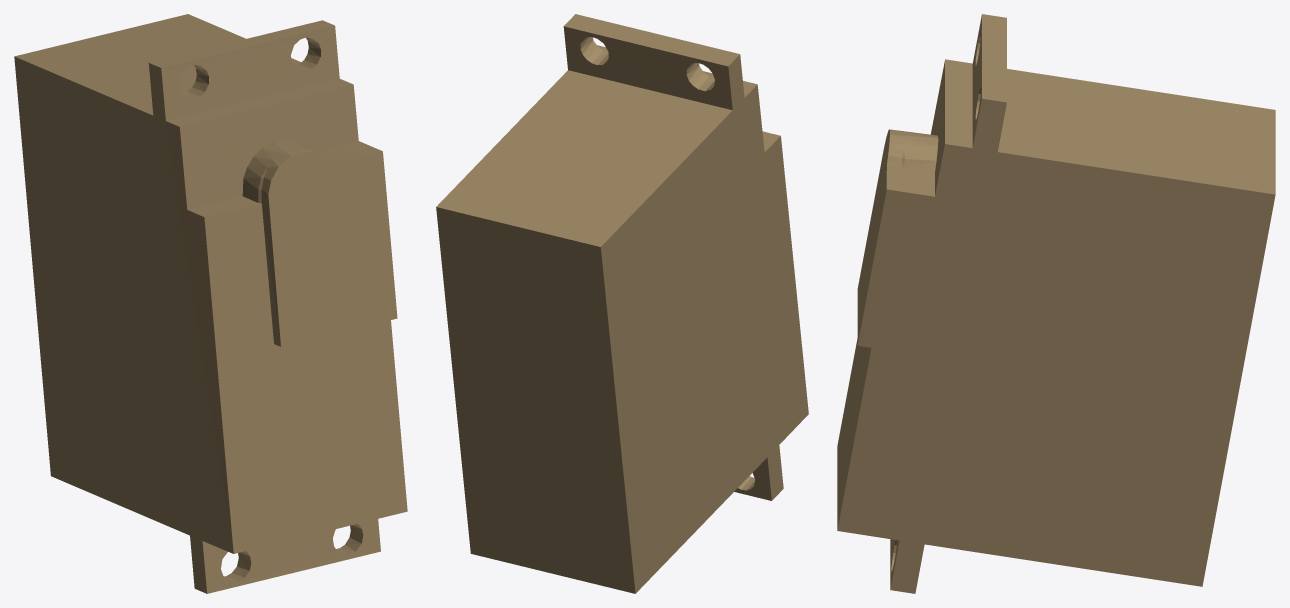
The model's file is right_elbow_x_link_visual_9.obj.balanced.glb.
3 renders of one model, left to right at view 1: azimuth 30°, elevation 25°; view 2: azimuth 150°, elevation 25°; view 3: azimuth 270°, elevation 25°, orthographic. The views are drawn at different scales.
Bounding box in the file's own units: 0.2828 × 0.7706 × 0.618.
